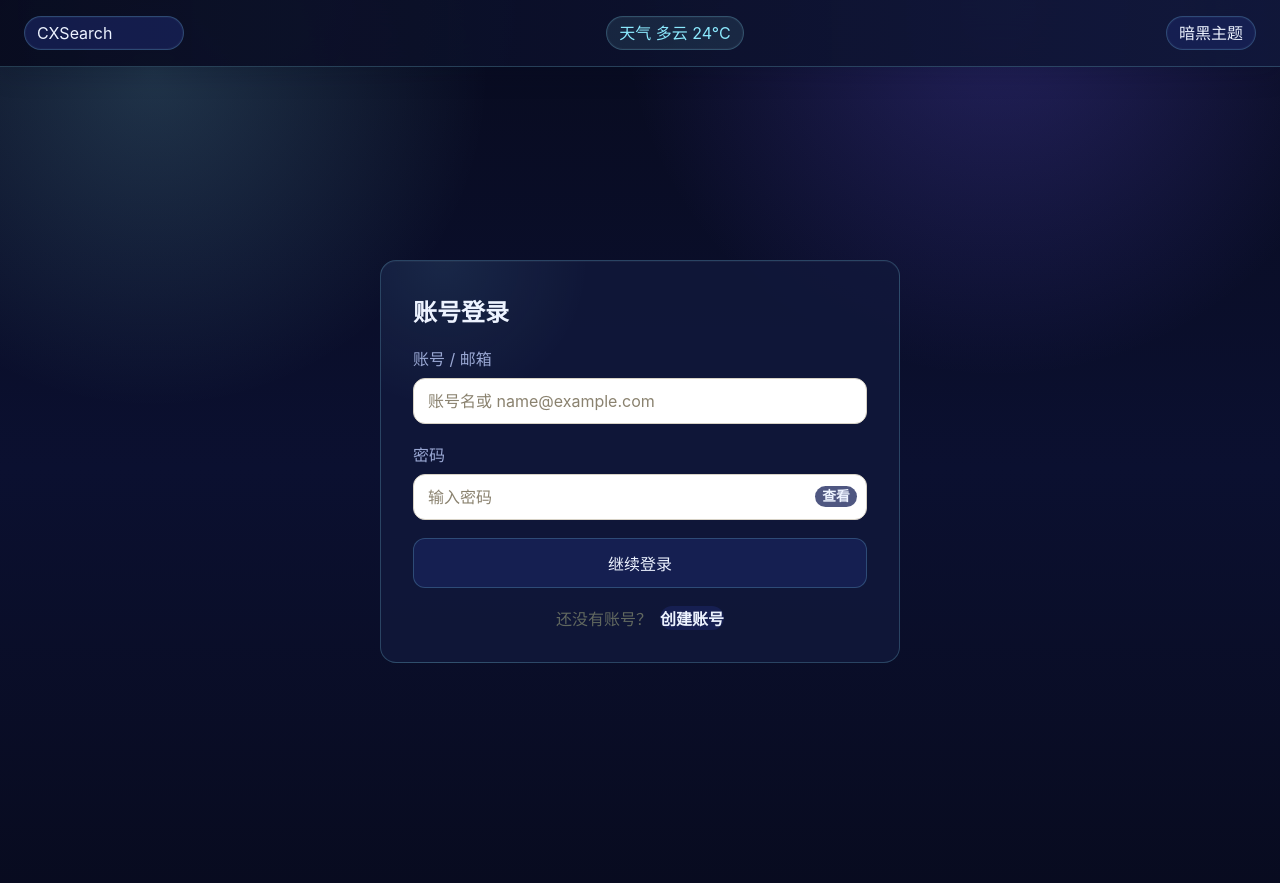
Scenario: prototype entry points › returns to the requested private page after login
Type "coreaccount" into the field labelled "账号 / 邮箱" at x=640, y=400, box [413,378,867,424]
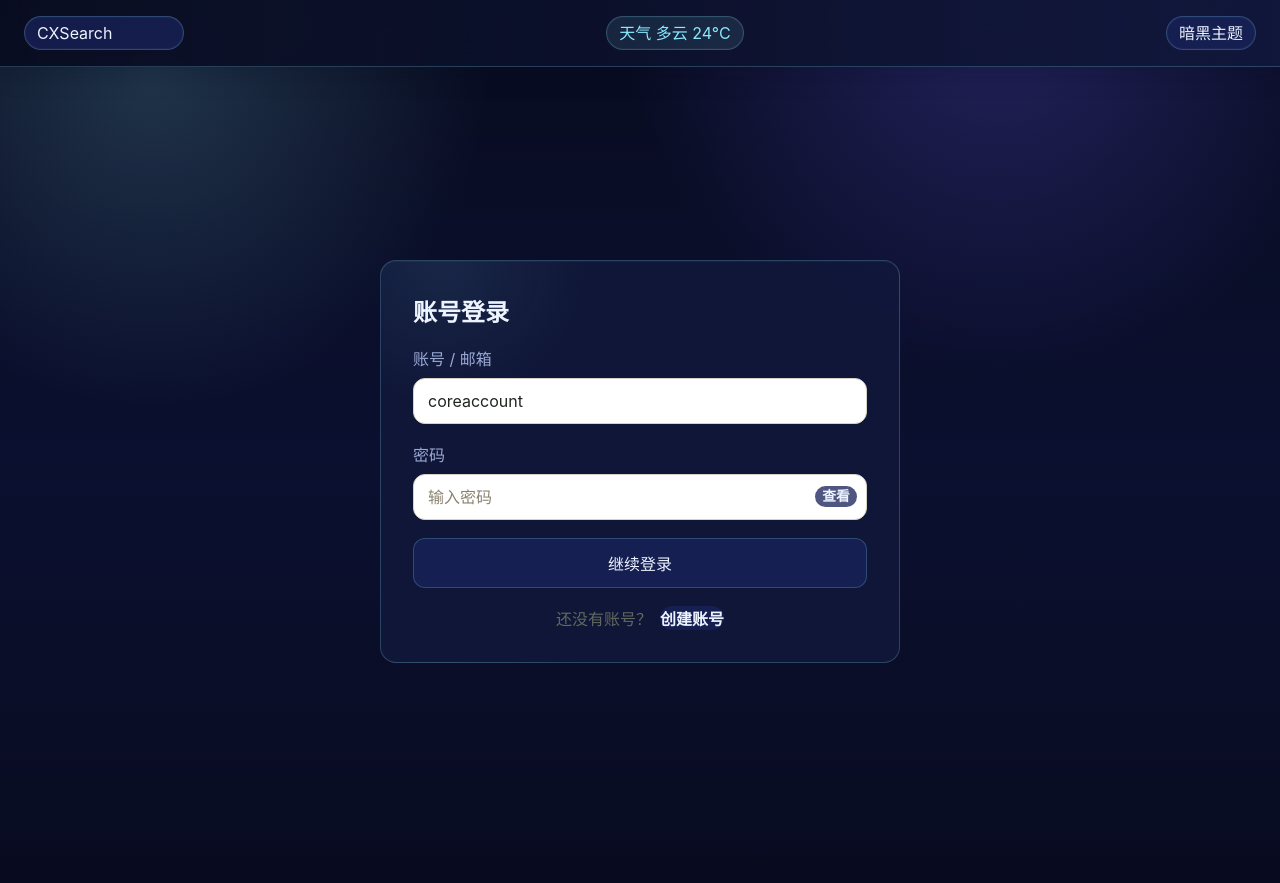
Type "password123" into the password field labelled "密码" at x=640, y=496, box [413,474,867,520]
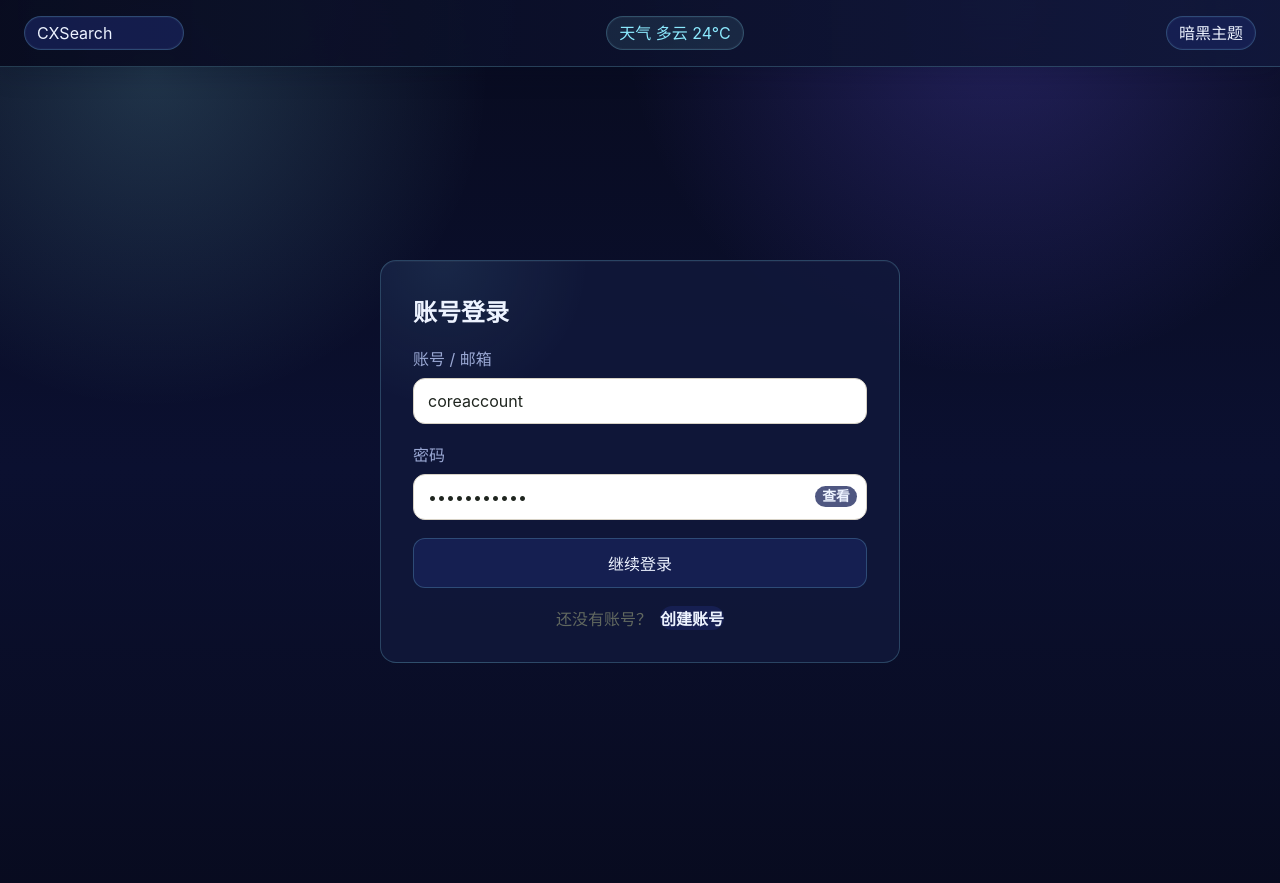
Click the button "继续登录" at x=640, y=562, box [413,538,867,588]
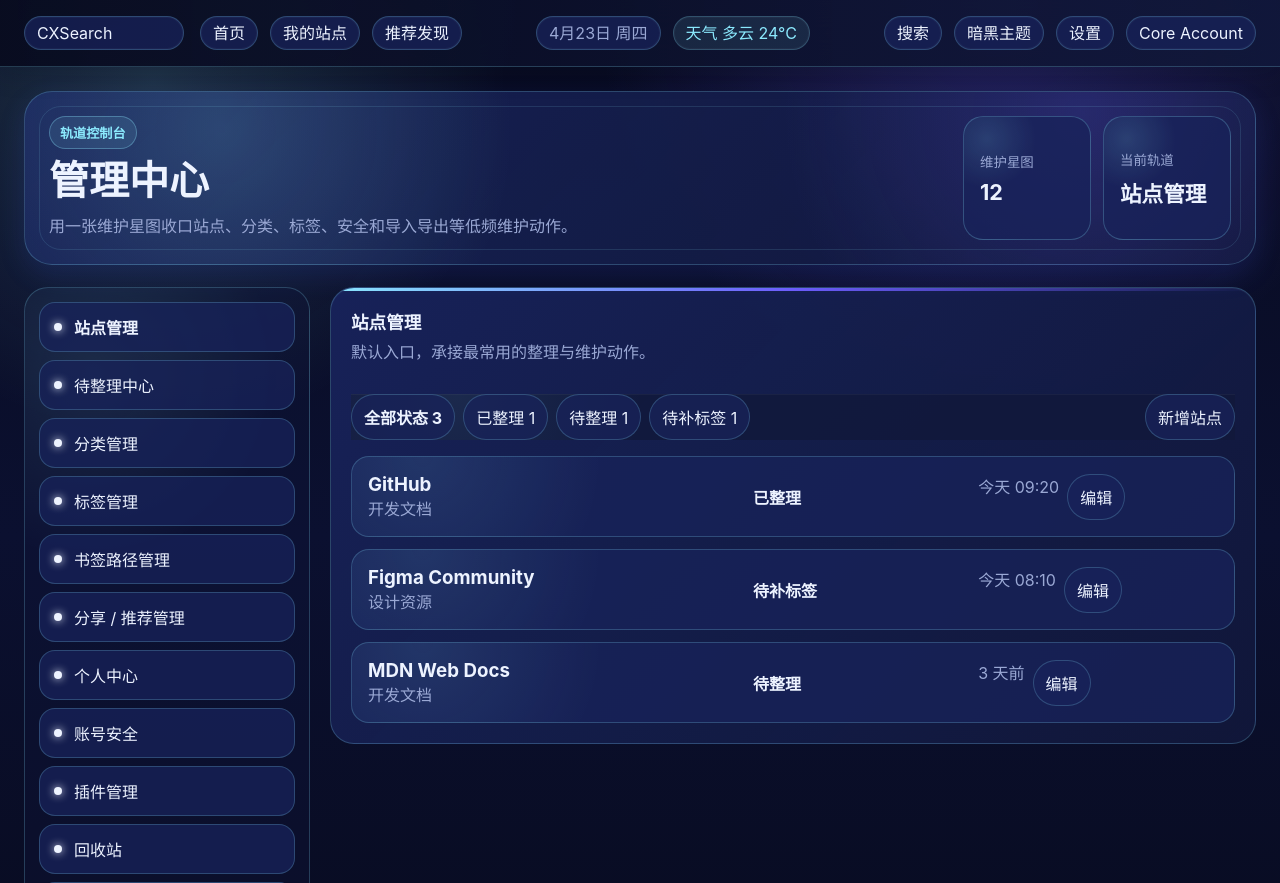
Check: the heading "管理中心" is shown, box [49,156,209,205]
